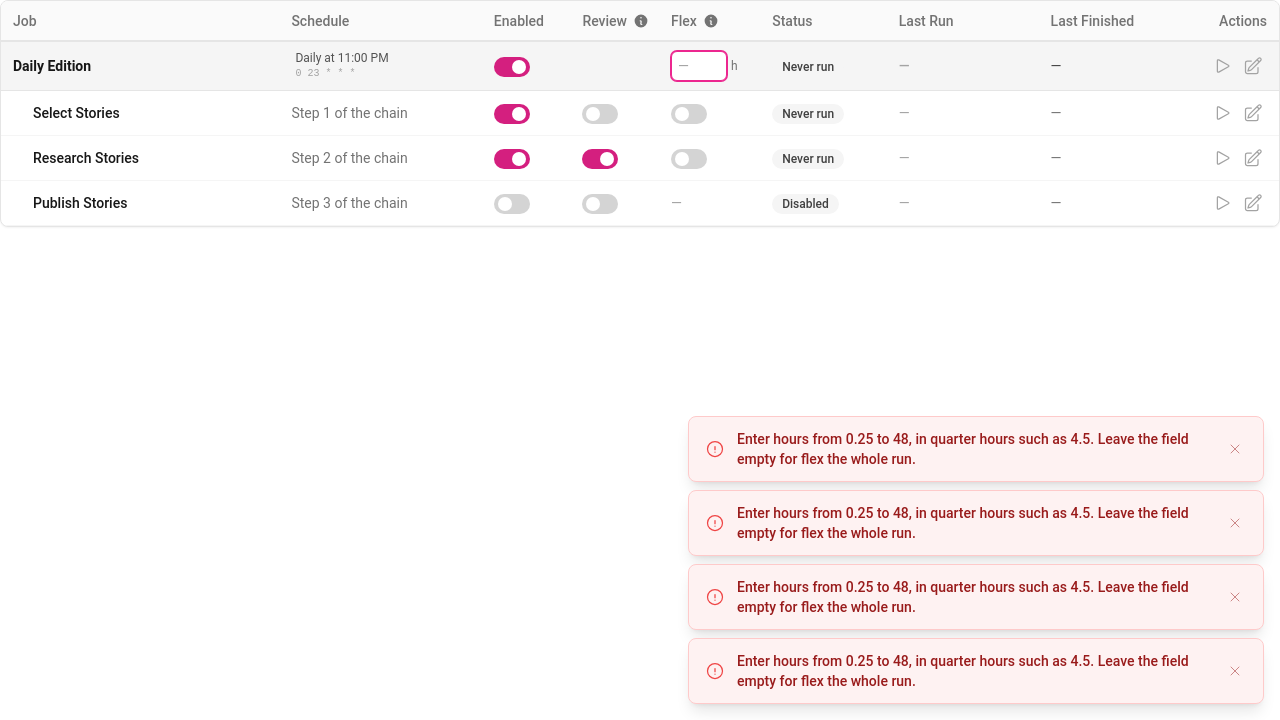
ChainRows › saves nothing for hours that are not quarter hours from 0.25 to 48, puts the value back and says why
Earlier steps of the test are not shown.
Type "05:00" into the field named "Flex for" at point(699, 66), box [671,51,727,81]
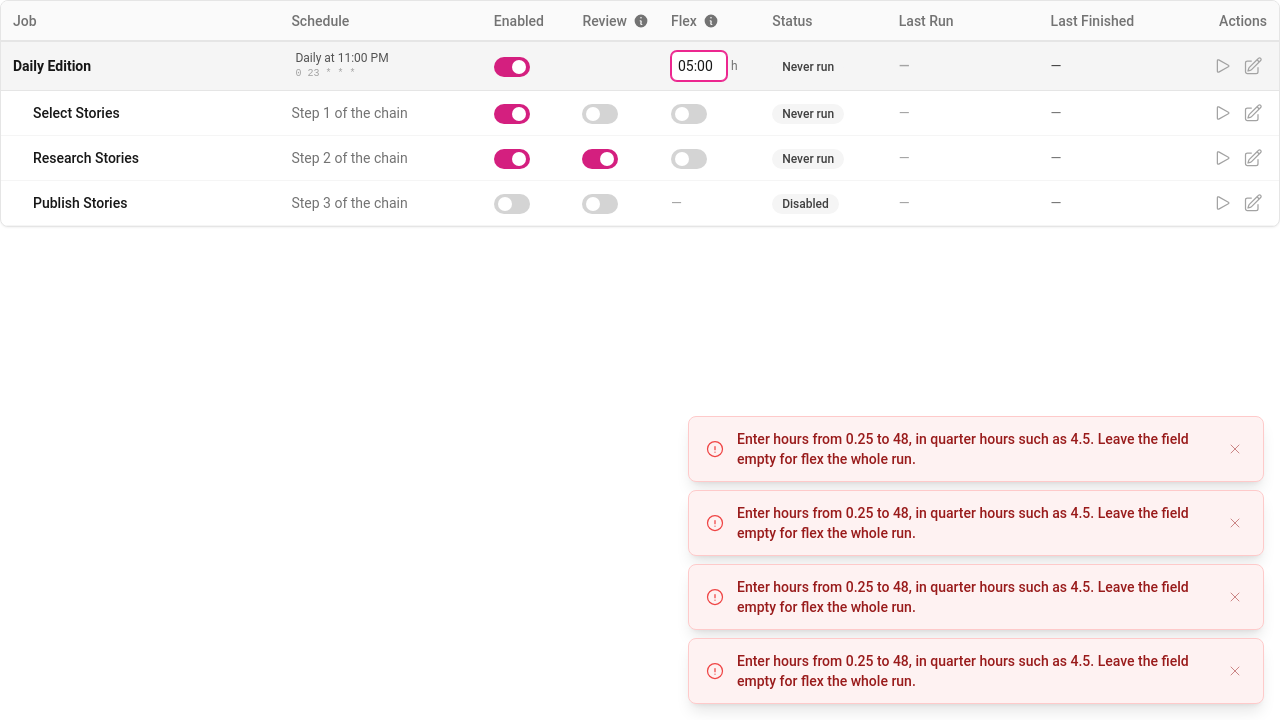
Press Tab
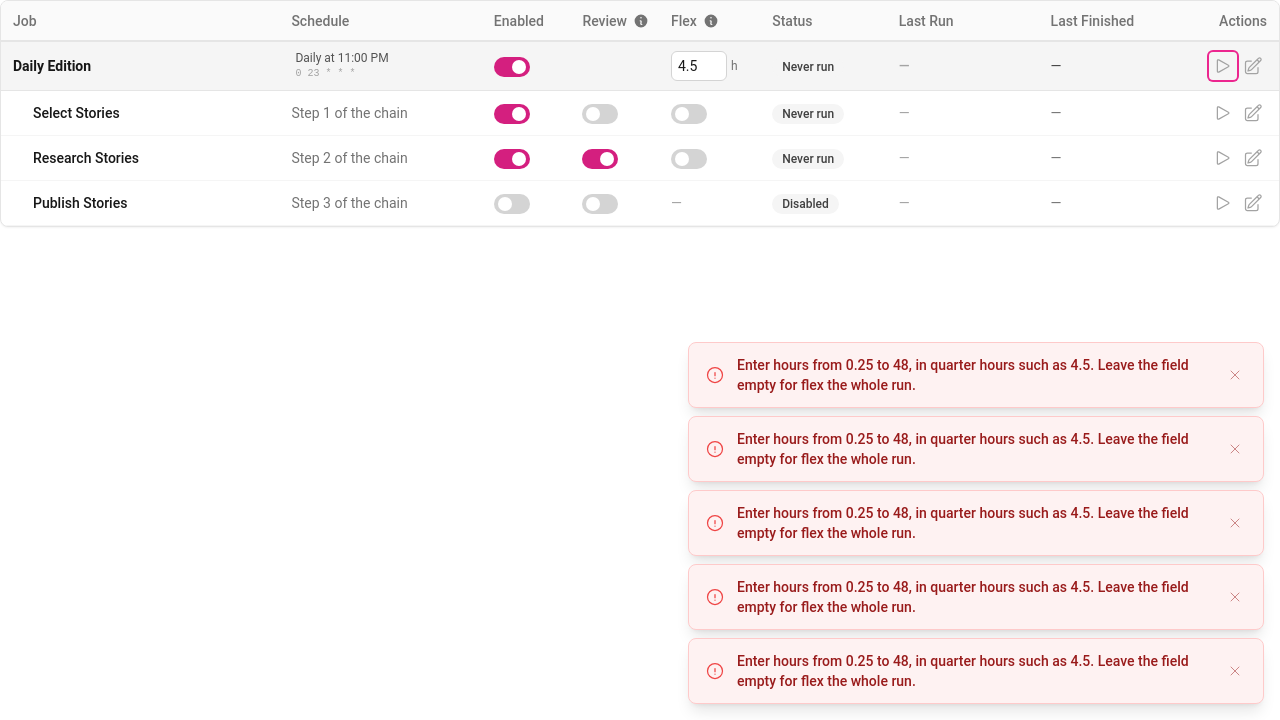
Now the field named "Flex for" holds "4.5", box [671,51,727,81]
